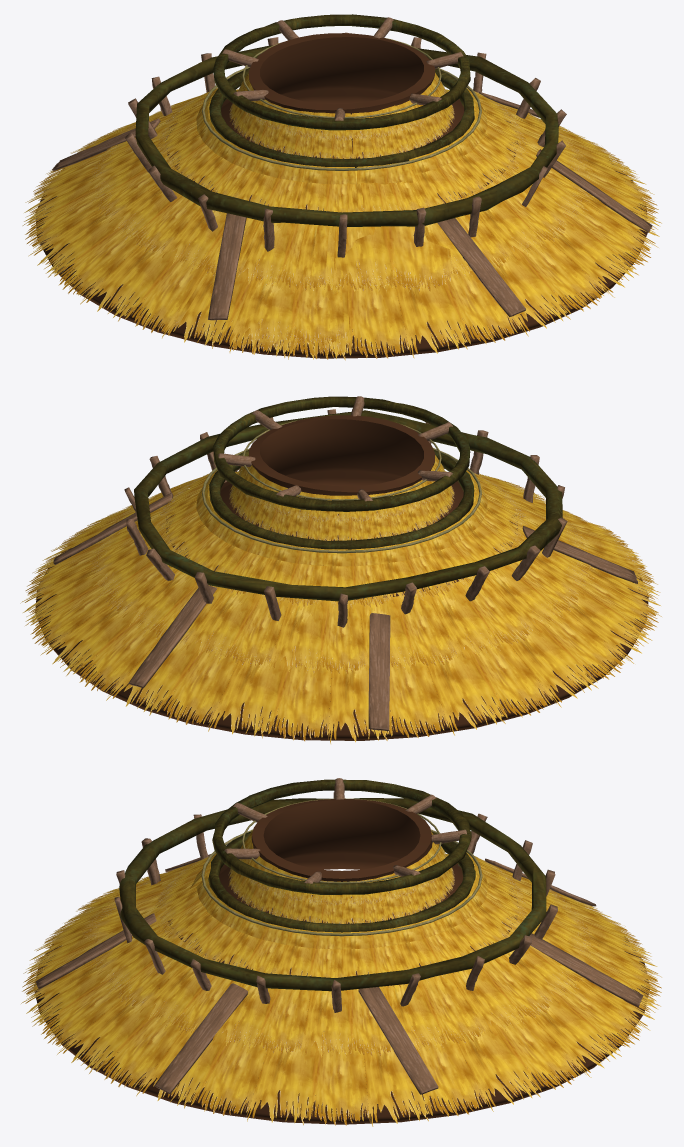
File: SM_roof_01.fbx
The picture shows the model from 3 angles, top to bottom: view 1: azimuth 30°, elevation 25°; view 2: azimuth 150°, elevation 25°; view 3: azimuth 270°, elevation 25°; orthographic projection.
Visible parts, largest first — view 1: roof_01; view 2: roof_01; view 3: roof_01.
Part boxes in pixels (box(x1,y1,x2,y2)): roof_01: box(22, 14, 661, 360); roof_01: box(20, 396, 661, 743); roof_01: box(21, 778, 661, 1126).
Bounding box in the file's own units: 2047 × 574 × 2047.
